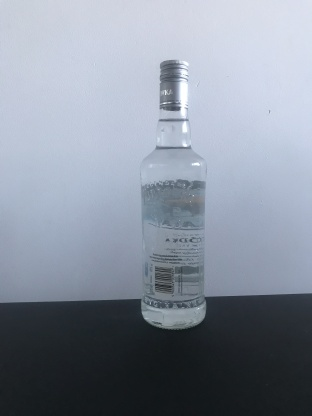nakretka: (158, 57, 190, 112)
